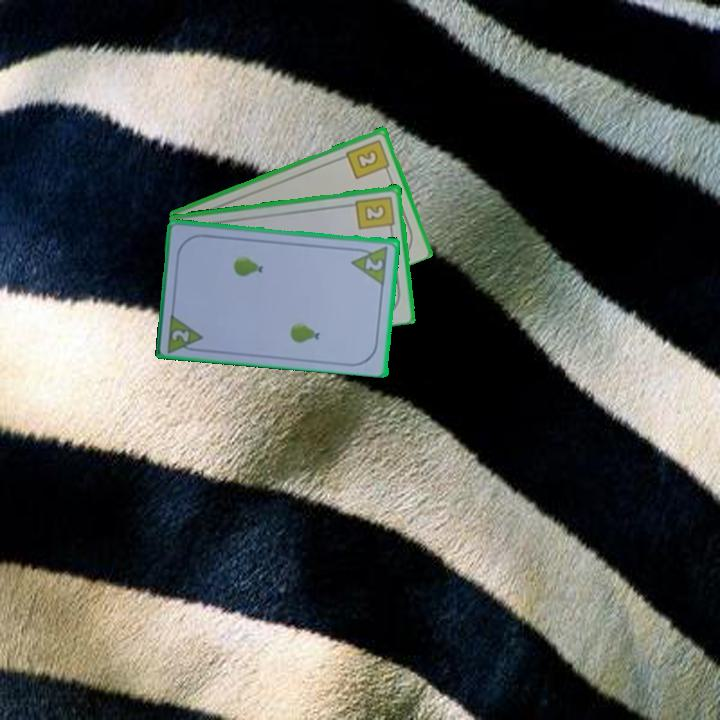2b: (343, 136, 393, 182), (353, 192, 398, 234)
2p: (362, 254, 386, 273), (168, 326, 192, 345)
